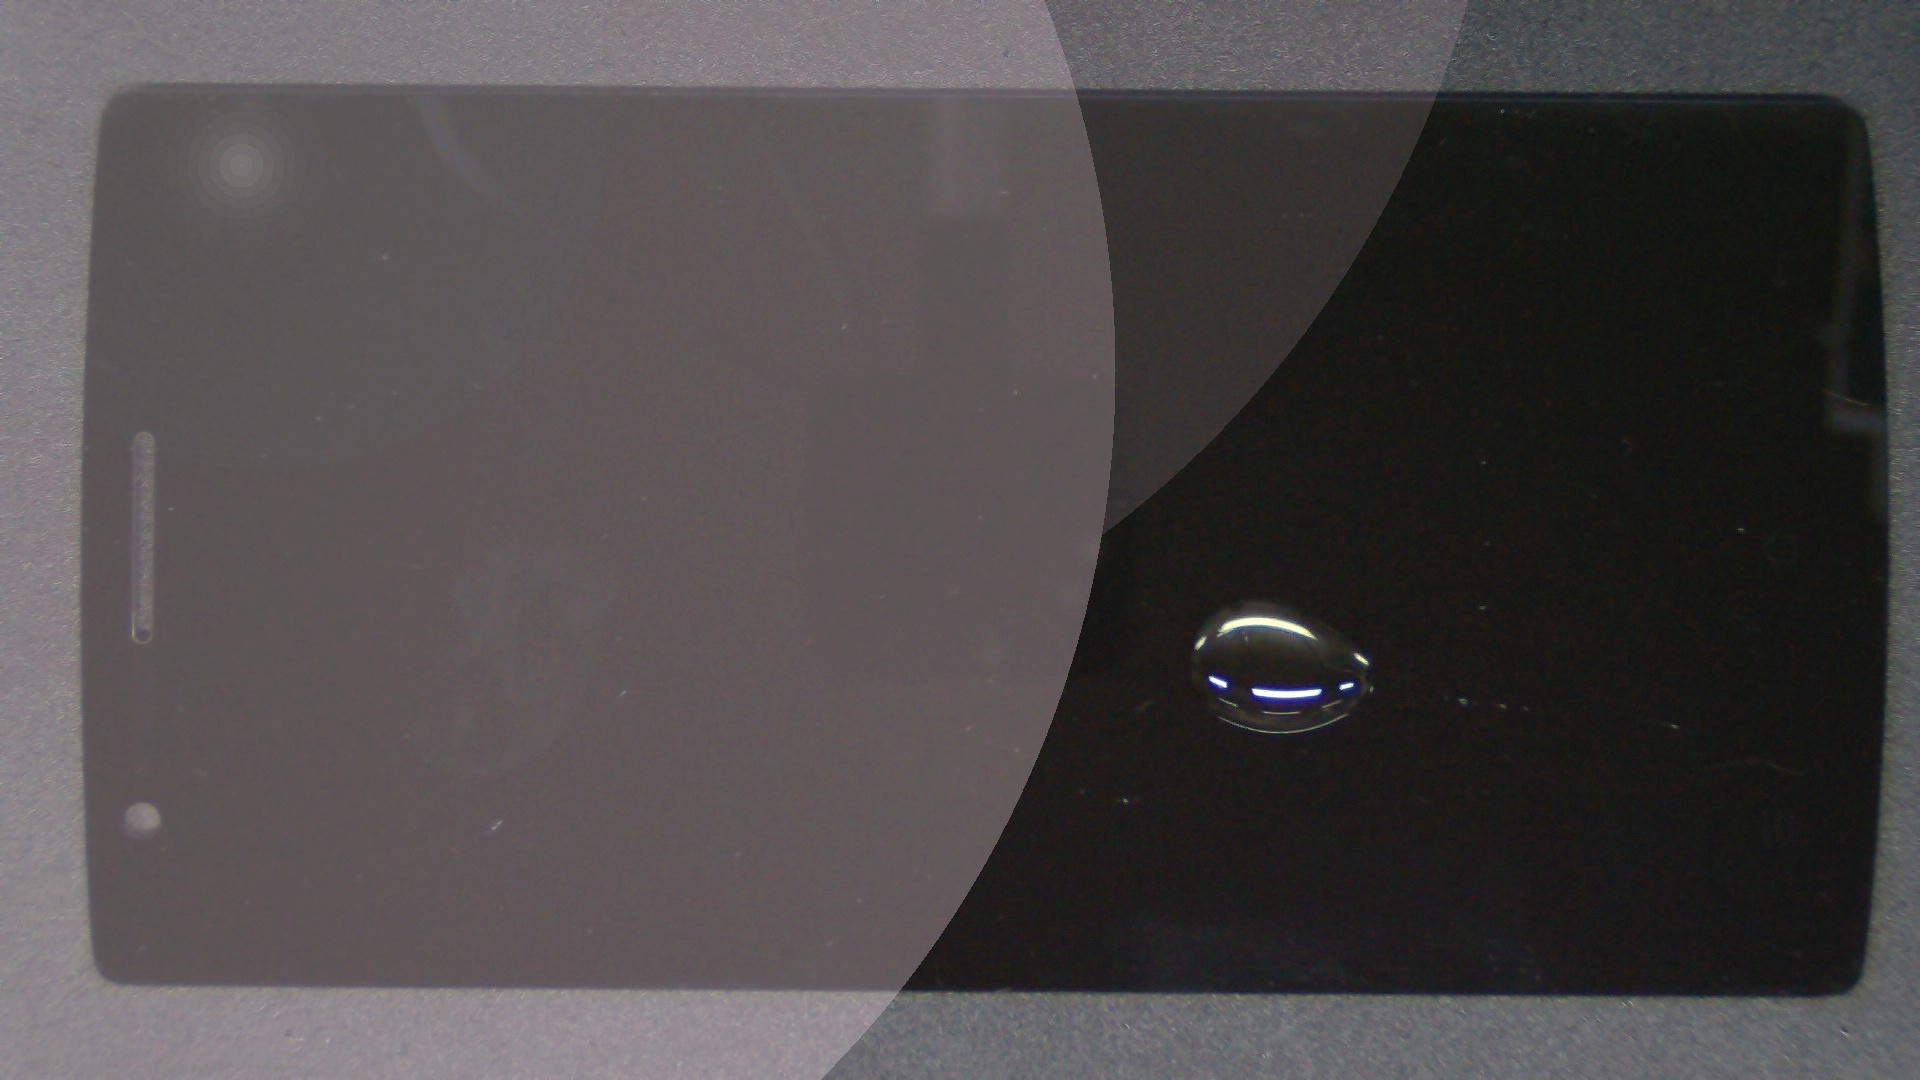oil: (625, 299, 1874, 899)
